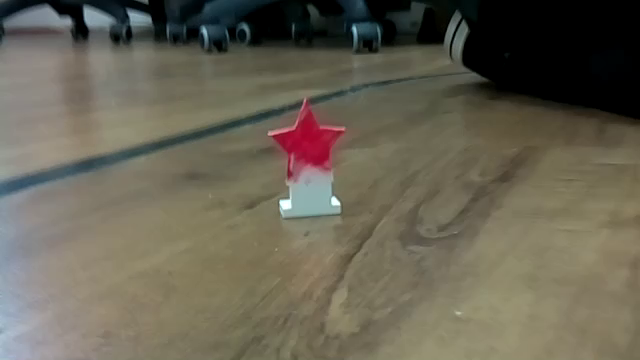star: (251, 90, 369, 227)
